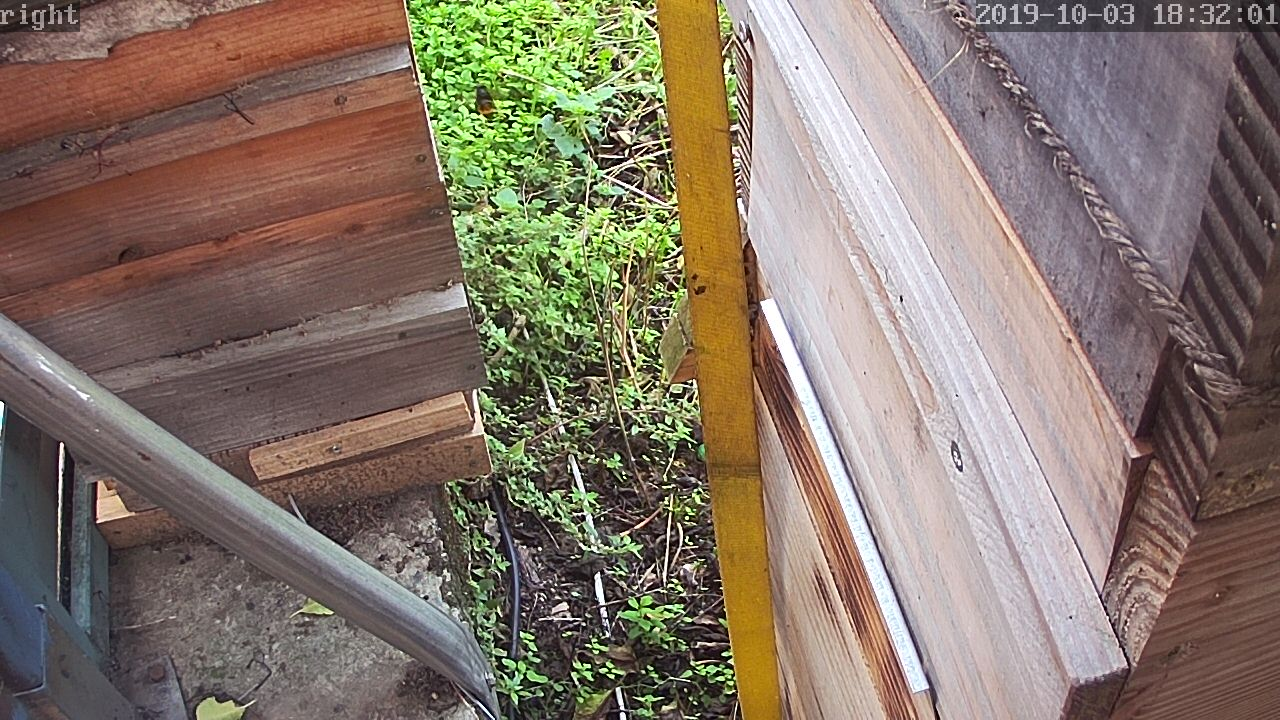hornet: (637, 130, 674, 177), (474, 75, 506, 127)
